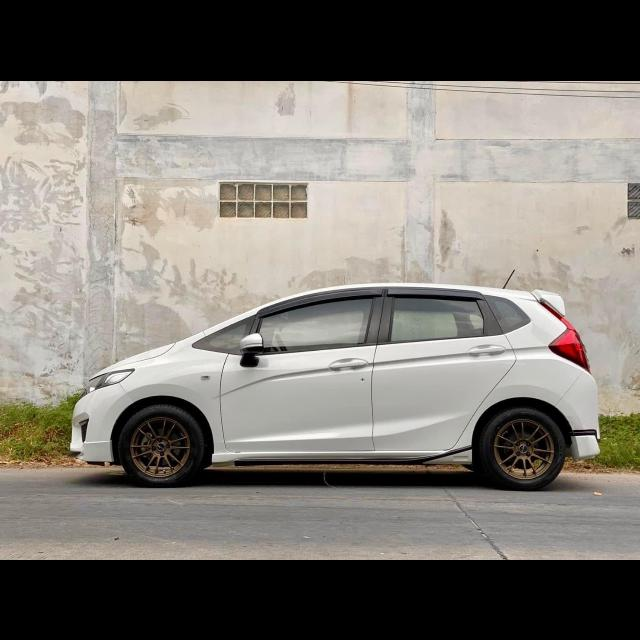cars: (56, 259, 606, 496)
